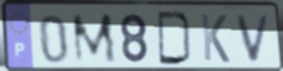0: (37, 13, 73, 65)
8: (119, 12, 151, 65)
D: (155, 9, 195, 67)
K: (199, 12, 232, 65)
M: (70, 12, 120, 66)
V: (235, 13, 274, 64)
